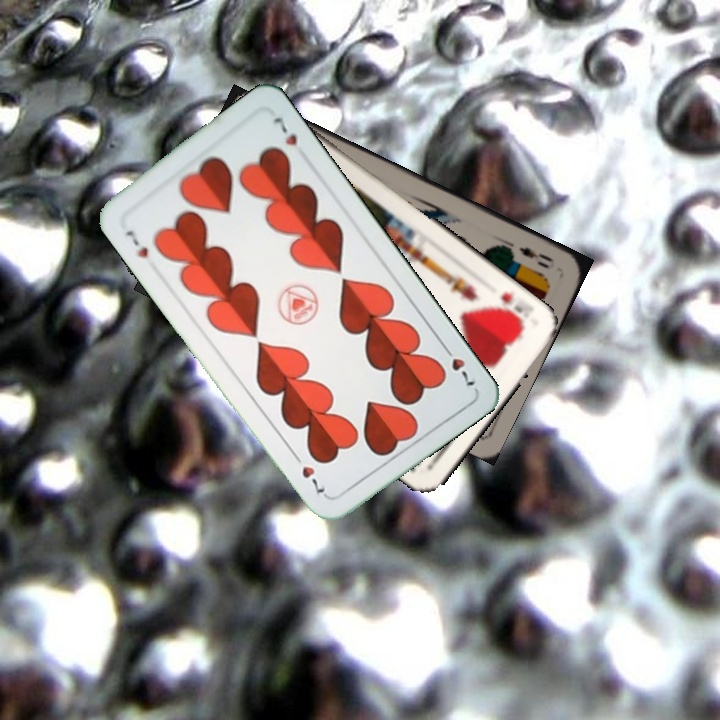EO: (515, 242, 557, 272)
H7: (437, 340, 478, 389), (122, 226, 151, 261)
HK: (491, 288, 529, 330)
